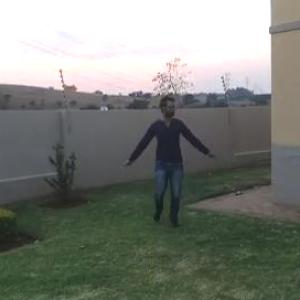land: (119, 99, 221, 237)
